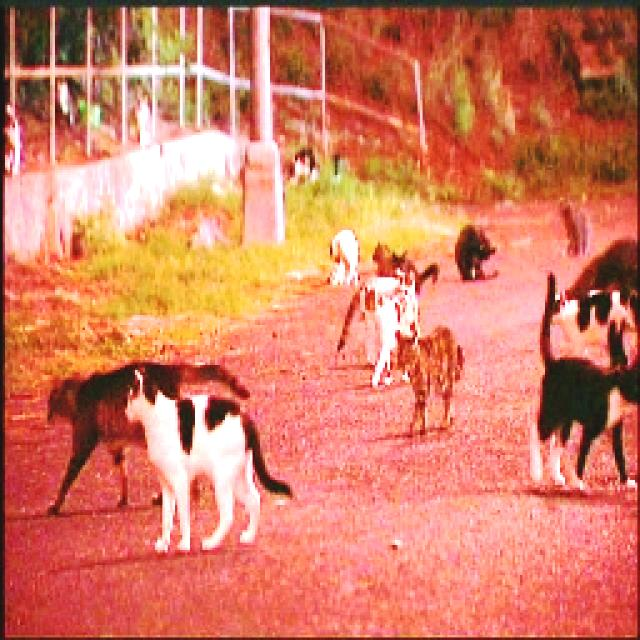cat: (125, 372, 293, 558), (41, 365, 256, 509), (527, 270, 640, 502), (388, 328, 467, 441), (535, 285, 640, 357), (356, 284, 422, 386), (341, 270, 424, 344), (449, 222, 504, 288), (322, 227, 362, 284)
